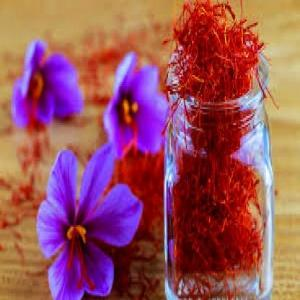Saffron: (36, 148, 143, 300), (104, 56, 170, 157), (11, 40, 85, 125)
